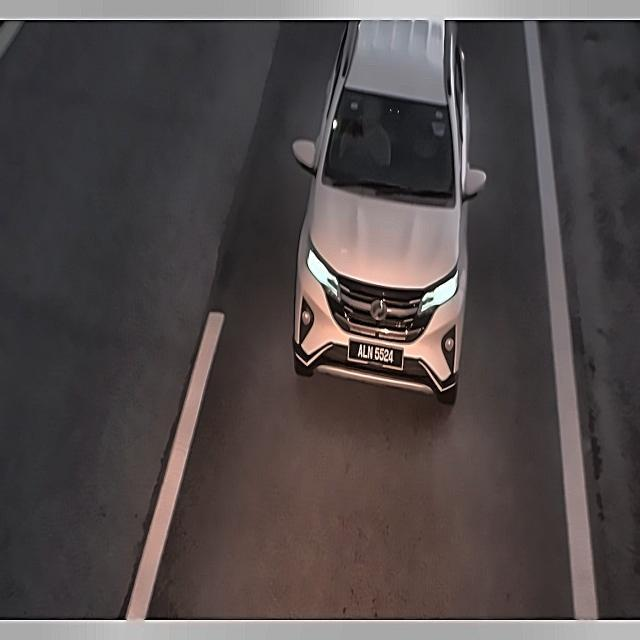car: (340, 329, 410, 374)
